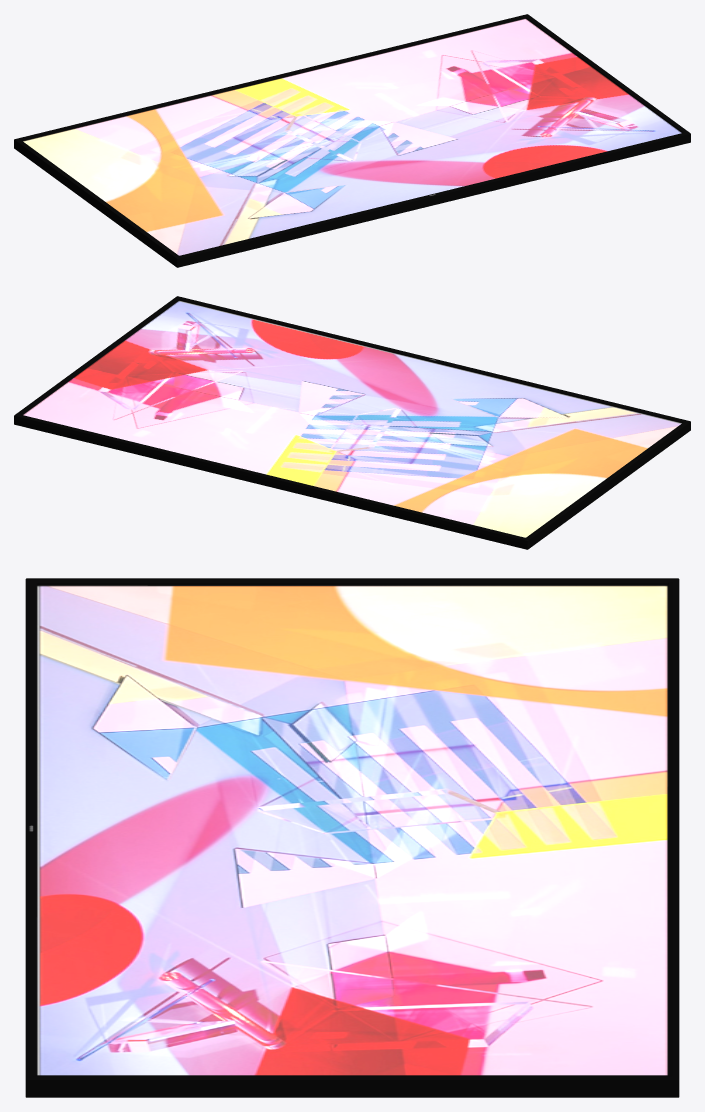
The model's file is electronic_19_02.001.fbx.
The picture shows the model from 3 angles, top to bottom: view 1: azimuth 30°, elevation 25°; view 2: azimuth 150°, elevation 25°; view 3: azimuth 270°, elevation 25°; orthographic projection. The views are drawn at different scales.
Visible parts, largest first — view 1: electronic_19_02.001; view 2: electronic_19_02.001; view 3: electronic_19_02.001.
Part boxes in pixels (<box>): electronic_19_02.001: <box>14,14,690,267</box>; electronic_19_02.001: <box>14,296,690,549</box>; electronic_19_02.001: <box>25,578,679,1097</box>.
Bounding box in the file's own units: 145 × 2.48 × 79.79.
1 material, 1 textured.
